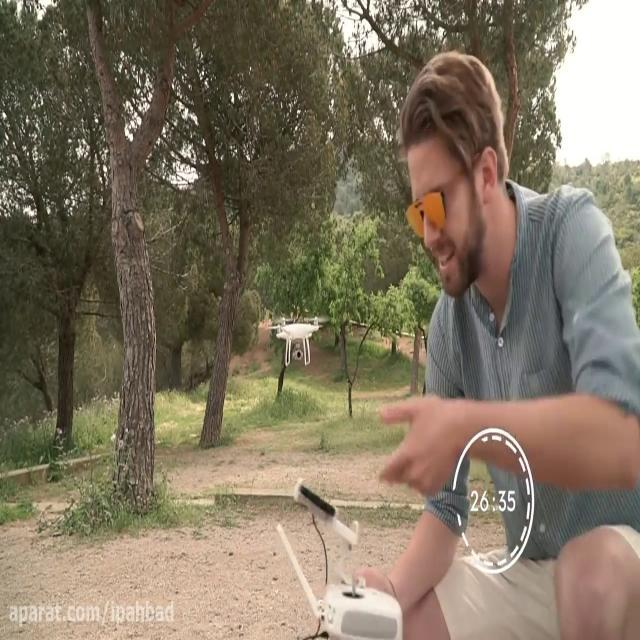drone: (266, 311, 331, 368)
